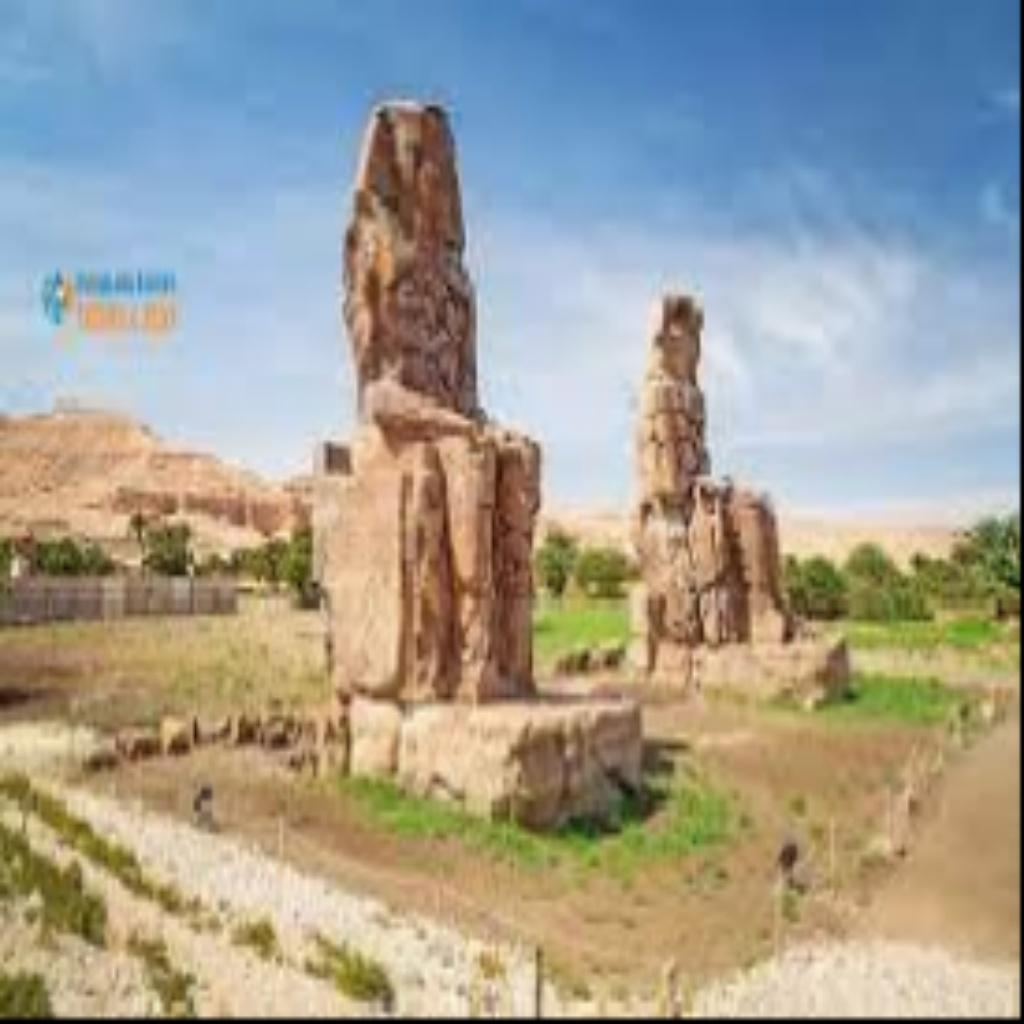Colossoi of Memnon: (306, 90, 548, 716), (626, 280, 804, 660)
